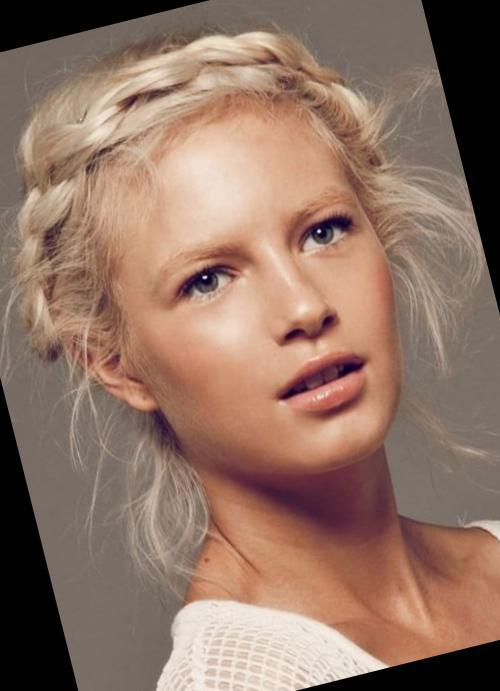Sober: (108, 126, 396, 451)
